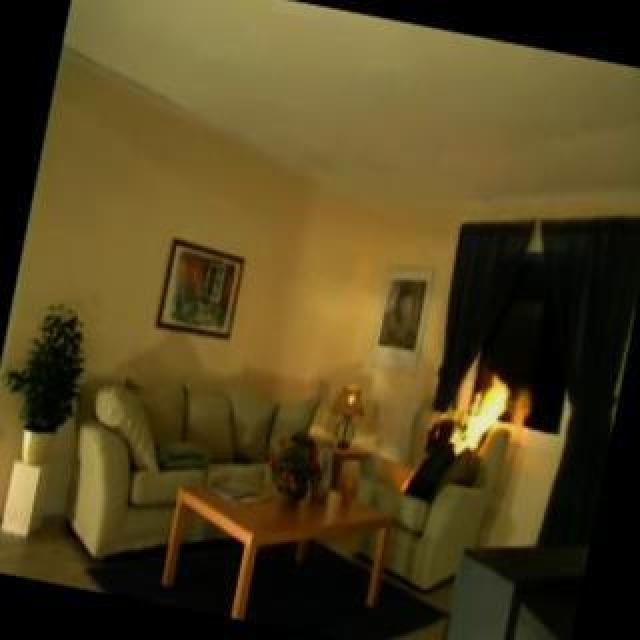fire: (443, 355, 529, 455)
